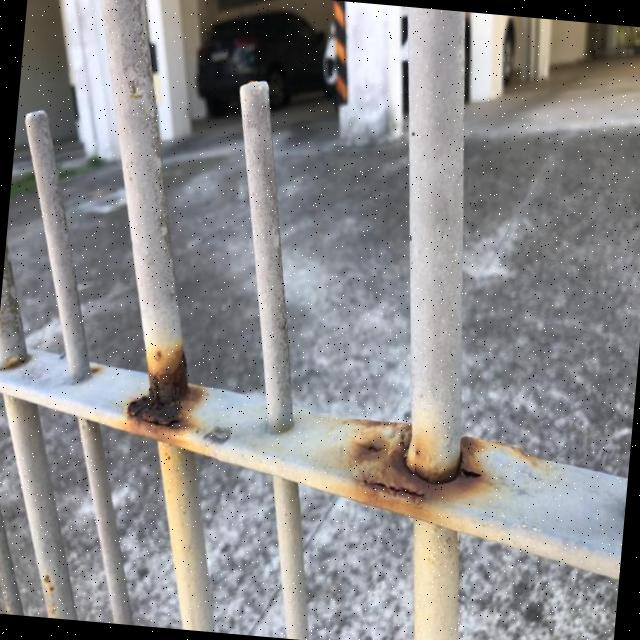Corrosion: (339, 416, 432, 501), (124, 340, 194, 428)
